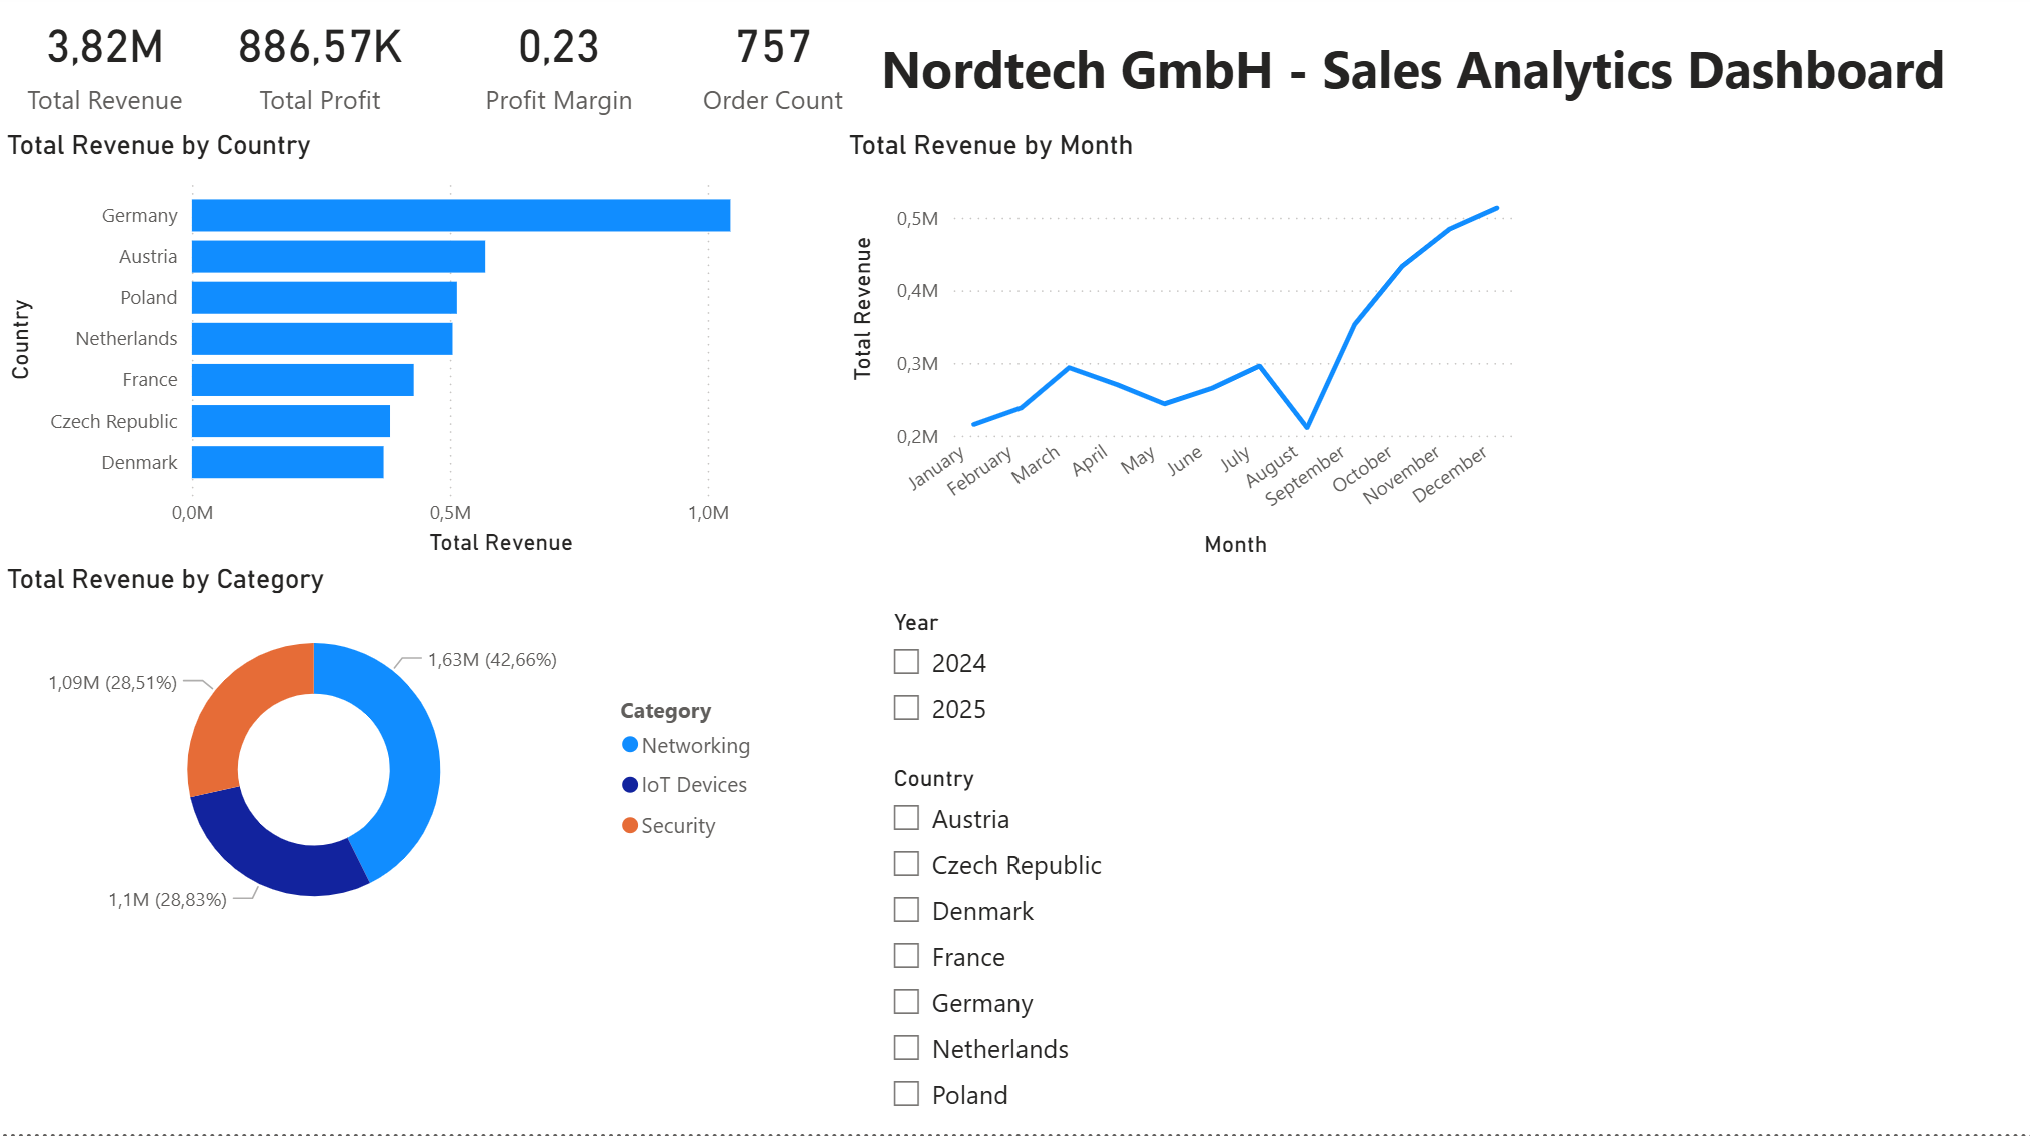

What the dashboard file says about the page in this screenshot:
{"tool":"powerbi","page":{"name":"Page 1","canvas":[1280,720],"ordinal":0},"visuals":[{"type":"card","fields":{"Values":["Sales.Total Revenue"]},"box":[10.1,0,113.4,86.9],"z":0},{"type":"card","fields":{"Values":["Sales.Total Profit"]},"box":[123.5,0,157.5,86.9],"z":1},{"type":"card","fields":{"Values":["Sales.Profit Margin"]},"box":[280.9,0,143.6,86.9],"z":2},{"type":"card","fields":{"Values":["Sales.Order Count"]},"box":[424.6,0,126,86.9],"z":3},{"type":"clusteredBarChart","fields":{"Category":["Regions.Country"],"Y":["Sales.Total Revenue"]},"box":[0,86.9,530.4,273.4],"z":4},{"type":"lineChart","fields":{"Category":["Sales.OrderDate.Variation.Date Hierarchy.Year","Sales.OrderDate.Variation.Date Hierarchy.Quarter","Sales.OrderDate.Variation.Date Hierarchy.Month","Sales.OrderDate.Variation.Date Hierarchy.Day"],"Y":["Sales.Total Revenue"]},"box":[530.4,86.9,429.6,274.6],"z":5},{"type":"donutChart","fields":{"Category":["Products.Category"],"Y":["Sales.Total Revenue"]},"box":[0,360.3,487.6,239.4],"z":6},{"type":"slicer","fields":{"Values":["Sales.OrderDate.Variation.Date Hierarchy.Year"]},"box":[550.6,384.3,104.6,95.7],"z":7},{"type":"slicer","fields":{"Values":["Regions.Country"]},"box":[550.6,482.5,171.3,238.1],"z":8},{"type":"textbox","box":[550.6,21.4,730.7,65.5],"z":9}]}

Visuals, with their boxes in screenshot pixels (x1, y1, x2, y2), scaled from the page's 1280x720 canvas onto the 2030x1136 screenshot:
card - Sales.Total Revenue: <box>16,0,196,137</box>
card - Sales.Total Profit: <box>196,0,446,137</box>
card - Sales.Profit Margin: <box>445,0,673,137</box>
card - Sales.Order Count: <box>673,0,873,137</box>
clusteredBarChart - Regions.Country x Sales.Total Revenue: <box>0,137,841,568</box>
lineChart - Sales.OrderDate.Variation.Date Hierarchy.Year x Sales.OrderDate.Variation.Date Hierarchy.Quarter: <box>841,137,1522,570</box>
donutChart - Products.Category x Sales.Total Revenue: <box>0,568,773,946</box>
slicer - Sales.OrderDate.Variation.Date Hierarchy.Year: <box>873,606,1039,757</box>
slicer - Regions.Country: <box>873,761,1145,1135</box>
textbox: <box>873,34,2029,137</box>
